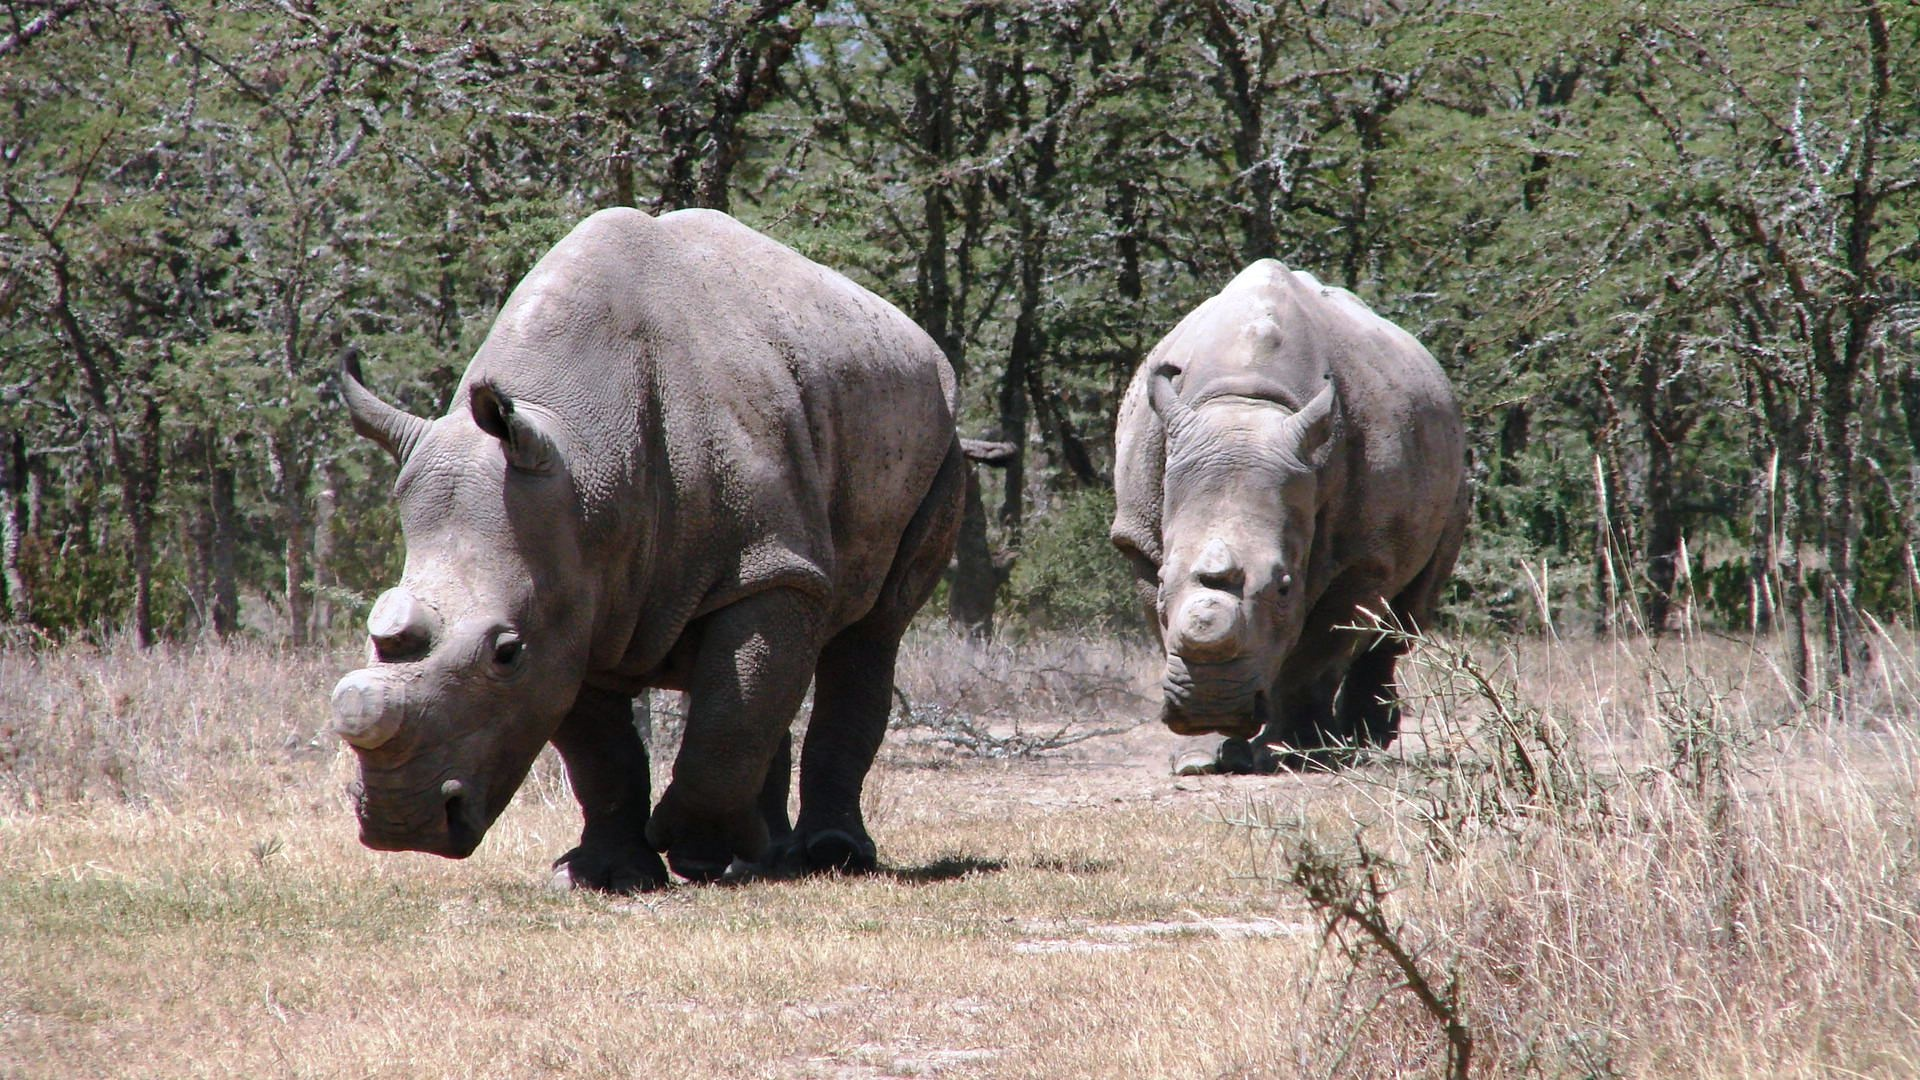rhino: (316, 198, 986, 897), (1105, 256, 1472, 766)
